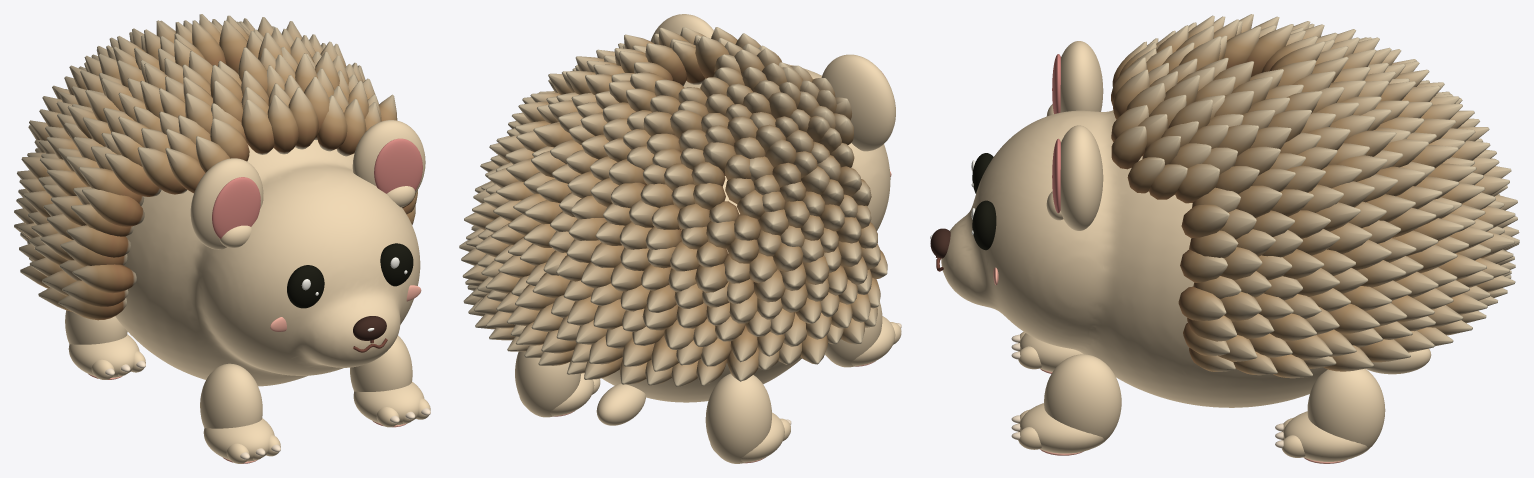
Rendered from hedgehog-stage-09.glb.
3 renders of one model, left to right at view 1: azimuth 30°, elevation 25°; view 2: azimuth 150°, elevation 25°; view 3: azimuth 270°, elevation 25°, orthographic. The views are drawn at different scales.
Visible parts, largest first — view 1: S09 • 360 individually formed rounded quills, S09 • seamless sculpted body and face, S09 • L front leg, S09 • L ear • outer rim, S09 • R front leg, S09 • L ear • recessed inner bowl, S09 • R ear • recessed inner bowl, S09 • R ear • outer rim, S09 • L front paw, S09 • L rear paw, S09 • R front paw, S09 • L rear leg (+4 smaller); view 2: S09 • 360 individually formed rounded quills, S09 • L rear leg, S09 • L ear • outer rim, S09 • seamless sculpted body and face, S09 • R rear leg, S09 • small tail, S09 • L front leg, S09 • L rear paw, S09 • L front paw, S09 • R ear • outer rim, S09 • R rear paw; view 3: S09 • 360 individually formed rounded quills, S09 • seamless sculpted body and face, S09 • R front leg, S09 • R rear leg, S09 • R ear • outer rim, S09 • L ear • outer rim, S09 • R front paw, S09 • R rear paw, S09 • L front paw, S09 • R glossy eye, S09 • small tail.
Part boxes in pixels (x1,y1,x2,y2): S09 • 360 individually formed rounded quills: [14, 14, 417, 320]; S09 • seamless sculpted body and face: [115, 140, 420, 386]; S09 • L front leg: [200, 363, 262, 428]; S09 • L ear • outer rim: [190, 158, 263, 249]; S09 • R front leg: [350, 335, 412, 391]; S09 • L ear • recessed inner bowl: [212, 177, 260, 238]; S09 • R ear • recessed inner bowl: [374, 138, 422, 193]; S09 • R ear • outer rim: [352, 120, 425, 193]; S09 • L front paw: [203, 418, 274, 461]; S09 • L rear paw: [68, 334, 139, 377]; S09 • R front paw: [353, 381, 424, 425]; S09 • L rear leg: [65, 310, 127, 344]; S09 • 360 individually formed rounded quills: [459, 27, 887, 386]; S09 • L rear leg: [705, 373, 771, 463]; S09 • L ear • outer rim: [821, 54, 895, 151]; S09 • seamless sculpted body and face: [602, 64, 890, 402]; S09 • R rear leg: [515, 351, 580, 417]; S09 • small tail: [596, 383, 645, 425]; S09 • L front leg: [825, 302, 882, 367]; S09 • L rear paw: [710, 412, 784, 462]; S09 • L front paw: [825, 316, 895, 365]; S09 • R ear • outer rim: [650, 14, 713, 42]; S09 • R rear paw: [519, 373, 594, 415]; S09 • 360 individually formed rounded quills: [1111, 14, 1519, 378]; S09 • seamless sculpted body and face: [941, 110, 1327, 407]; S09 • R front leg: [1044, 354, 1121, 447]; S09 • R rear leg: [1307, 368, 1385, 456]; S09 • R ear • outer rim: [1060, 125, 1103, 230]; S09 • L ear • outer rim: [1060, 41, 1103, 112]; S09 • R front paw: [1020, 403, 1104, 453]; S09 • R rear paw: [1283, 411, 1367, 461]; S09 • L front paw: [1020, 333, 1083, 371]; S09 • R glossy eye: [972, 200, 996, 250]; S09 • small tail: [1366, 348, 1431, 374].
Size of the model in its own units: 2.22 by 2.01 by 2.87.
